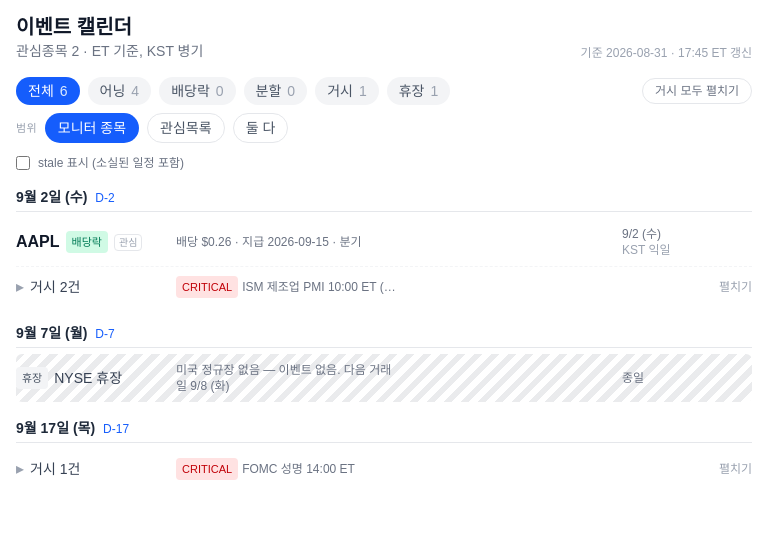
Test case: EventCalendarPage — 거시 접기(T2) › "거시 모두 펼치기" 토글이 모든 그룹을 일괄 펼치고/접는다
Check: the button with test id "macro-fold-2026-09-02" is shown, box [16,267,752,307]
Check: the button with test id "macro-fold-2026-09-17" is shown, box [16,449,752,489]
Click the button with test id "macro-toggle-all" at coordinates (697, 91), box [642,78,752,104]
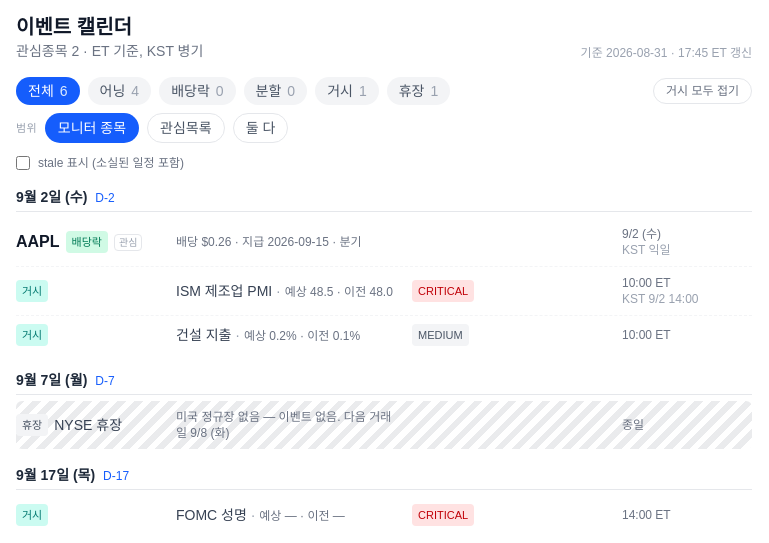
Check: the number of elements with test id "event-row-macro-na" is 3, box [16,267,752,316]; [16,324,671,346]; [16,504,671,526]
Check: the button with test id "macro-toggle-all" reads "거시 모두 접기"
Click the button with test id "macro-toggle-all" at coordinates (703, 91), box [653,78,752,104]
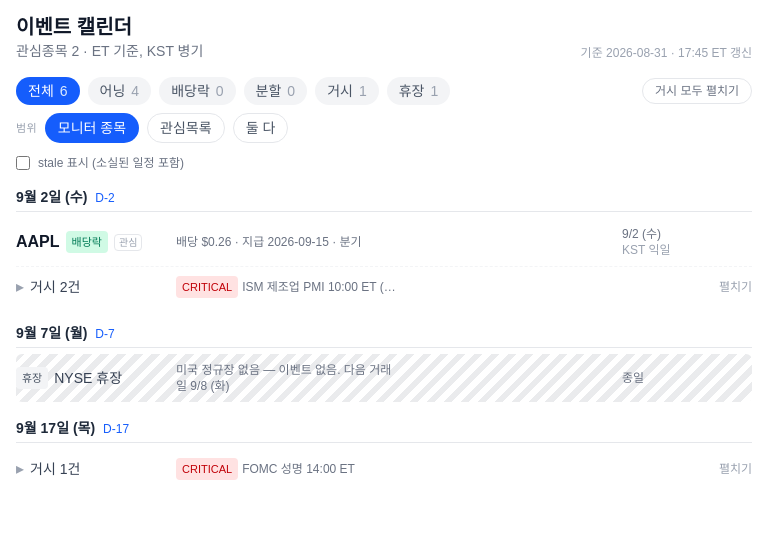
Check: the button with test id "macro-fold-2026-09-02" is shown, box [16,267,752,307]
Check: the button with test id "macro-fold-2026-09-17" is shown, box [16,449,752,489]
Check: the button with test id "macro-toggle-all" reads "거시 모두 펼치기", box [642,78,752,104]
